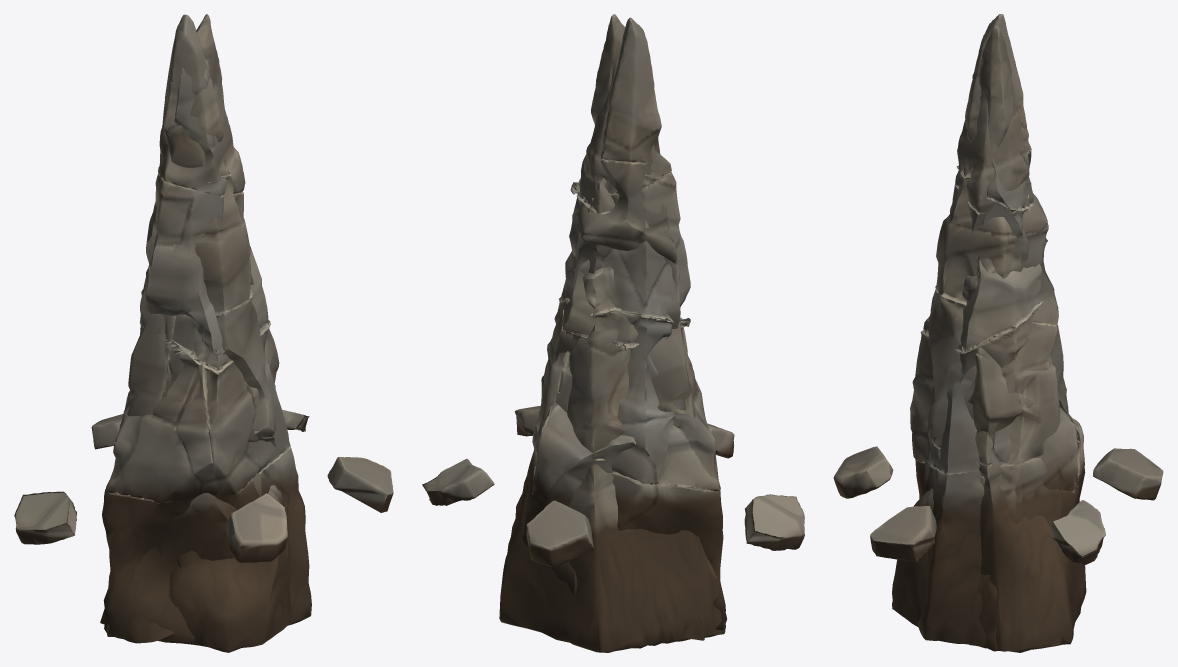
The model's file is EarthSpike.gltf.
3 views of the same model, side by side, from view 1: azimuth 30°, elevation 25°; view 2: azimuth 150°, elevation 25°; view 3: azimuth 270°, elevation 25° (orthographic). The views are drawn at different scales.
Visible parts, largest first — view 1: SpikeC0, SpikeC2, SpikeA0, SpikeC3, Collar, SpikeC1, SpikeB0, SpikeA3, SpikeA4, SpikeC4, SpikeA1, SpikeB2 (+2 smaller); view 2: SpikeB0, SpikeC2, Collar, SpikeB2, SpikeA3, SpikeC3, SpikeC0, SpikeA4, SpikeA2, SpikeB4, SpikeB3, SpikeC4 (+3 smaller); view 3: SpikeC0, SpikeB0, SpikeC1, Collar, SpikeA1, SpikeA3, SpikeC3, SpikeC4, SpikeB4, SpikeA0, SpikeB1, SpikeA4 (+3 smaller).
Part boxes in pixels (x1,y1,x2,y2): SpikeC0: (102, 446, 311, 643); SpikeC2: (106, 294, 217, 502); SpikeA0: (100, 430, 290, 652); SpikeC3: (140, 173, 270, 370); Collar: (14, 409, 393, 562); SpikeC1: (201, 322, 290, 496); SpikeB0: (106, 473, 262, 645); SpikeA3: (140, 151, 252, 325); SpikeA4: (159, 14, 230, 182); SpikeC4: (158, 60, 245, 195); SpikeA1: (216, 297, 275, 438); SpikeB2: (126, 313, 176, 416); SpikeB0: (499, 460, 725, 652); SpikeC2: (556, 312, 720, 491); Collar: (422, 405, 804, 567); SpikeB2: (544, 310, 695, 460); SpikeA3: (562, 160, 680, 347); SpikeC3: (559, 172, 690, 327); SpikeC0: (524, 425, 726, 630); SpikeA4: (601, 17, 661, 162); SpikeA2: (533, 332, 636, 500); SpikeB4: (570, 14, 625, 213); SpikeB3: (569, 185, 616, 315); SpikeC4: (584, 52, 671, 193); SpikeC0: (915, 457, 1064, 648); SpikeB0: (919, 461, 1086, 652); SpikeC1: (910, 303, 1060, 474); Collar: (833, 446, 1163, 565); SpikeA1: (925, 289, 1078, 491); SpikeA3: (935, 151, 1058, 324); SpikeC3: (923, 183, 1043, 352); SpikeC4: (955, 59, 1029, 213); SpikeB4: (979, 25, 1033, 216); SpikeA0: (892, 439, 1082, 651); SpikeB1: (968, 353, 1021, 465); SpikeA4: (956, 14, 1031, 177).
Bounding box in the file's own units: 2.43 × 4.14 × 2.11.
Materials: 4 (4 with a texture image).
